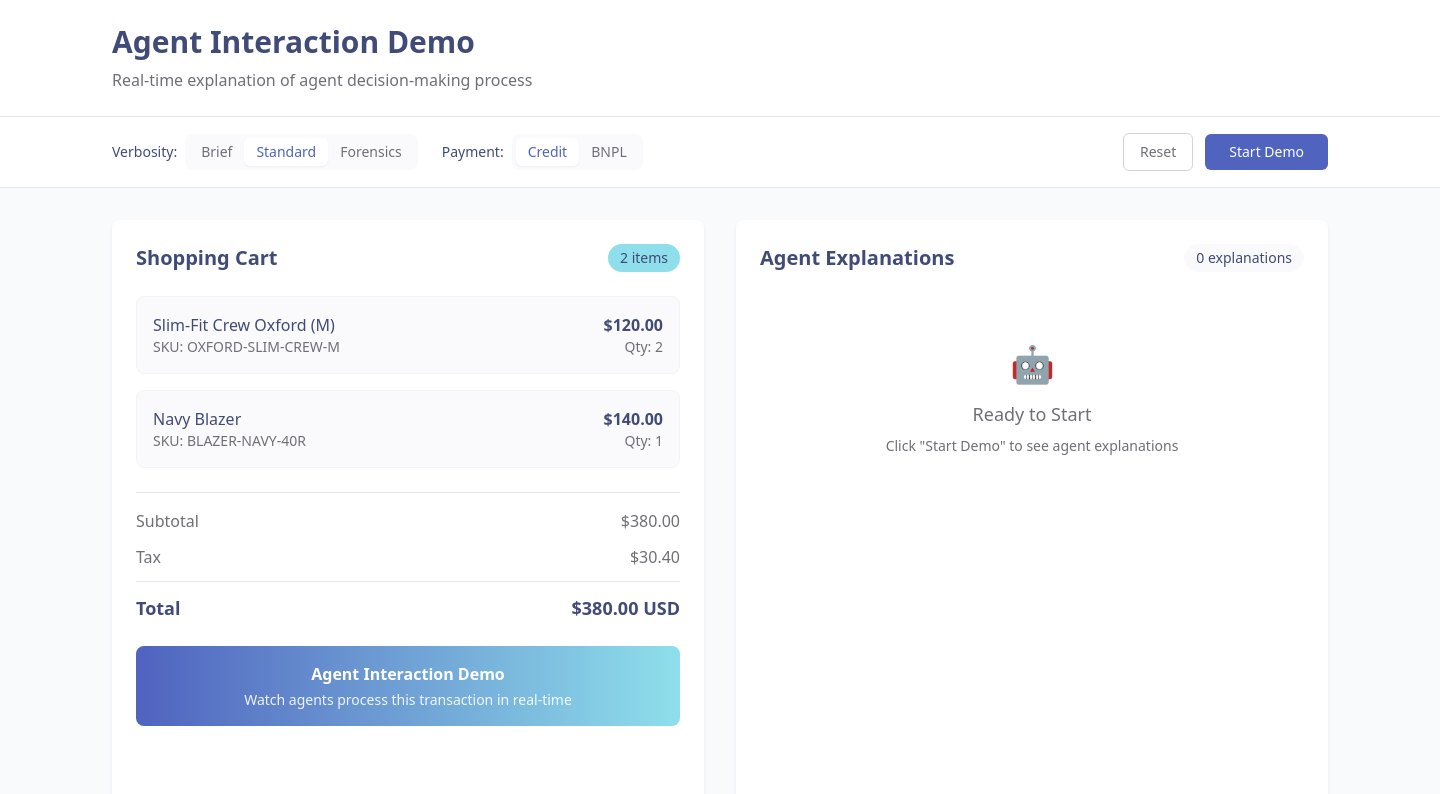
AgentInteractionDemo › reset button clears explanations
This screenshot has width=1440, height=794.
Start demo first
Click the button "Start Demo" at (1267, 152), box x1=1205 y1=134 x2=1328 y2=170
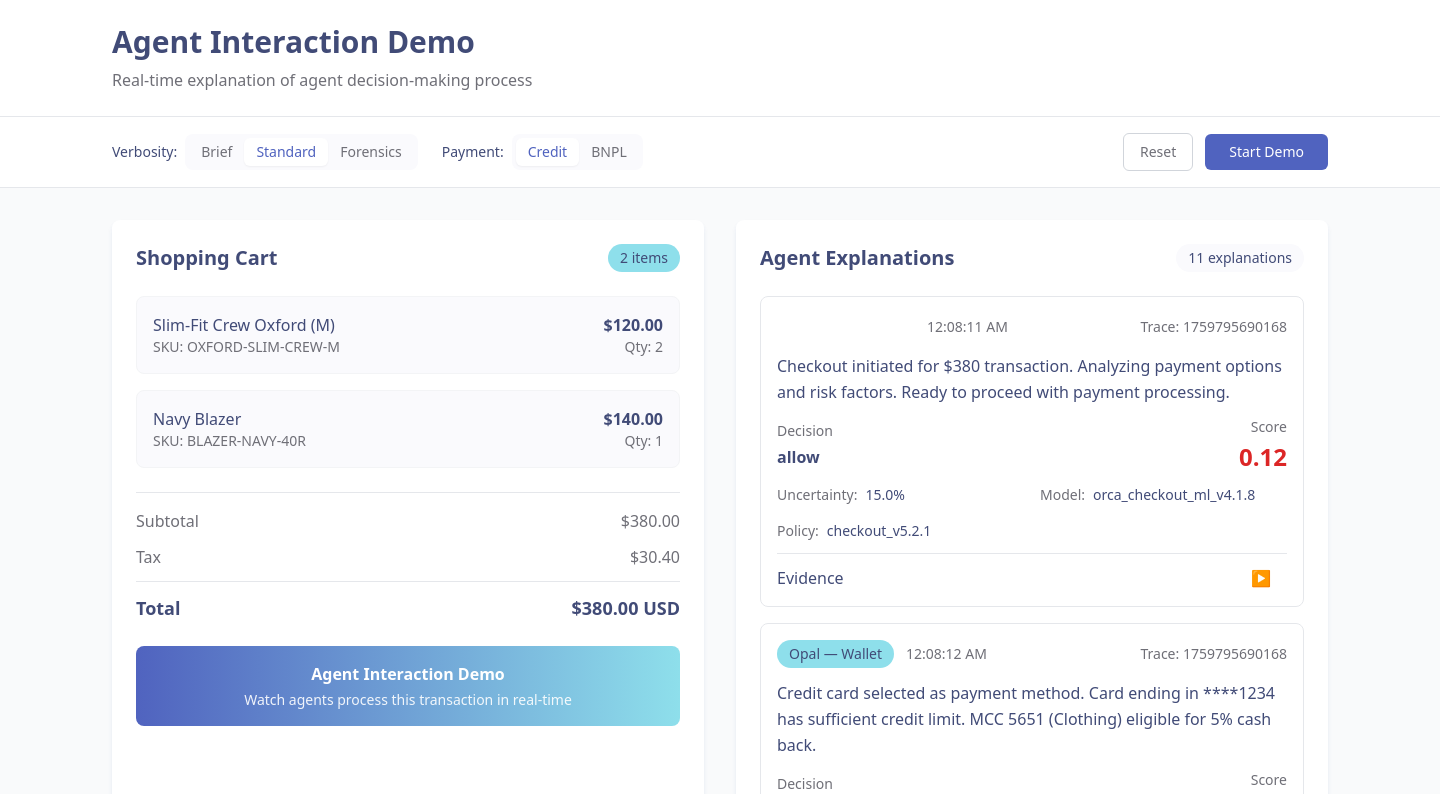
Then reset
Click the button "Reset" at (1158, 152), box x1=1123 y1=133 x2=1193 y2=171
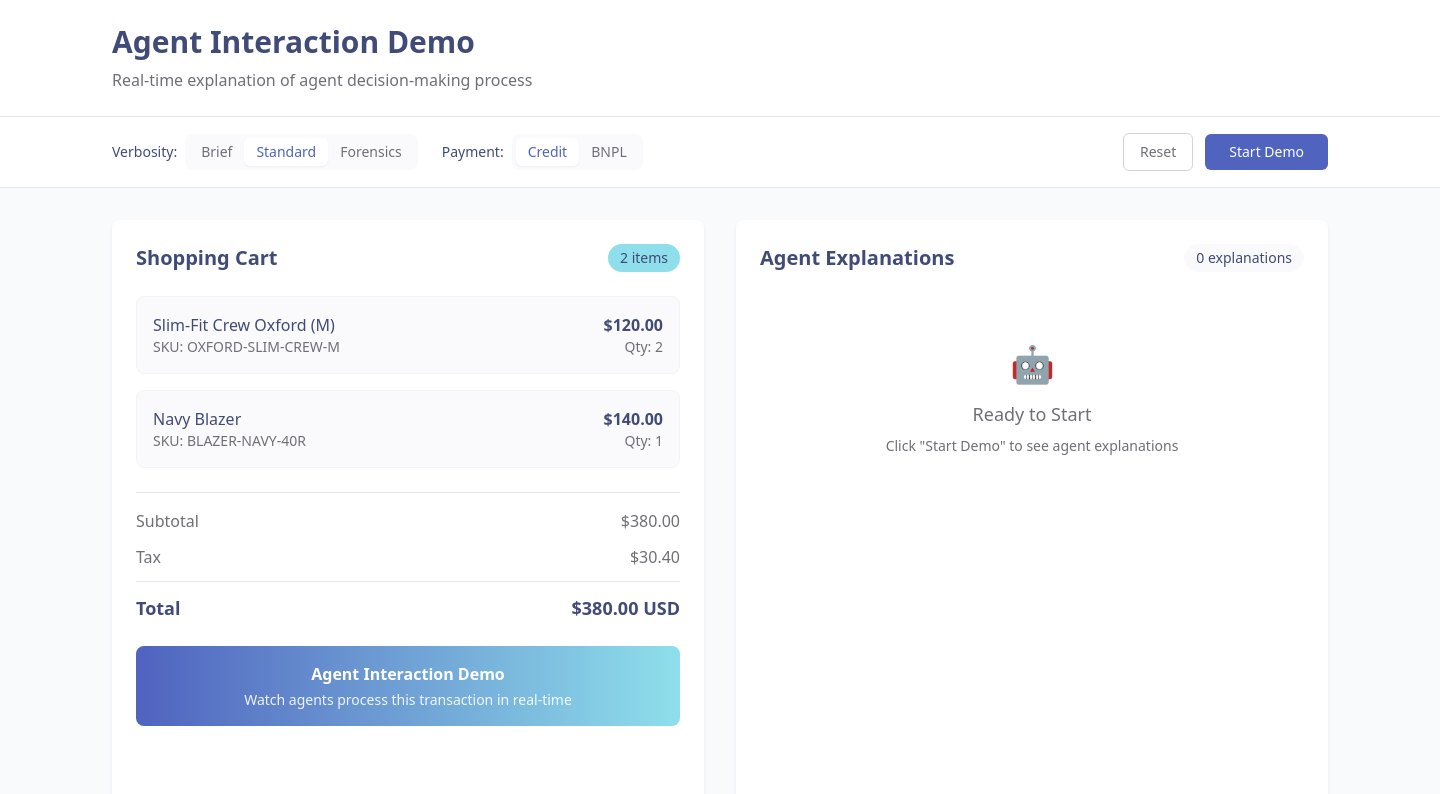
Expected: the text "Ready to Start" is shown, x1=973 y1=402 x2=1092 y2=426
